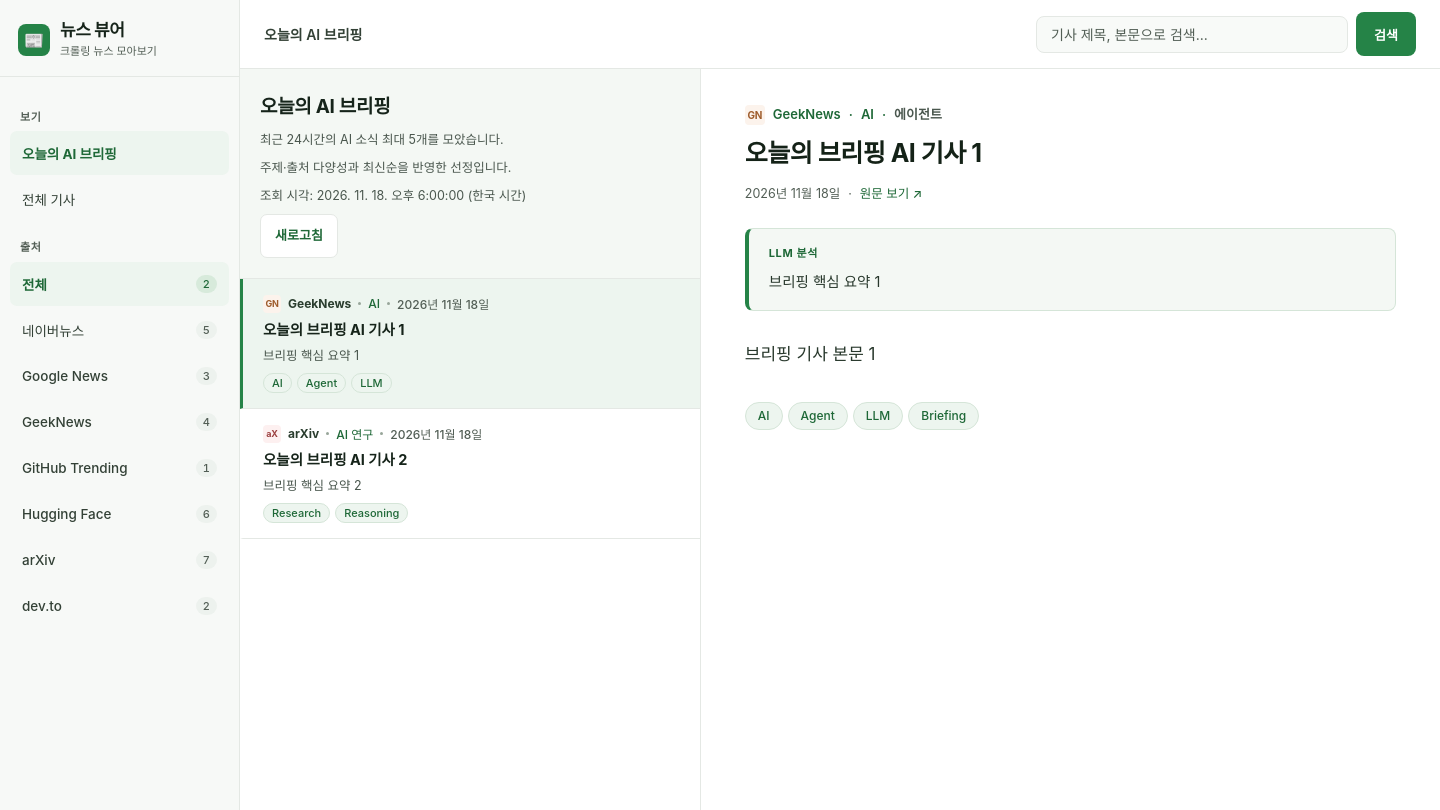
Test: 뉴스 뷰어 전체 화면 사용자 시나리오 › 사이드바에서 다른 보기로 전환하면 기존 선택을 해제해 새 보기 첫 기사를 표시하고 같은 보기를 다시 누르면 선택을 유지한다
Expected: the heading "오늘의 브리핑 AI 기사 1" is shown, [745,138,982,168]
Click the button "오늘의 브리핑 AI 기사 2".
click(304, 434)  # box [240,409,700,539]
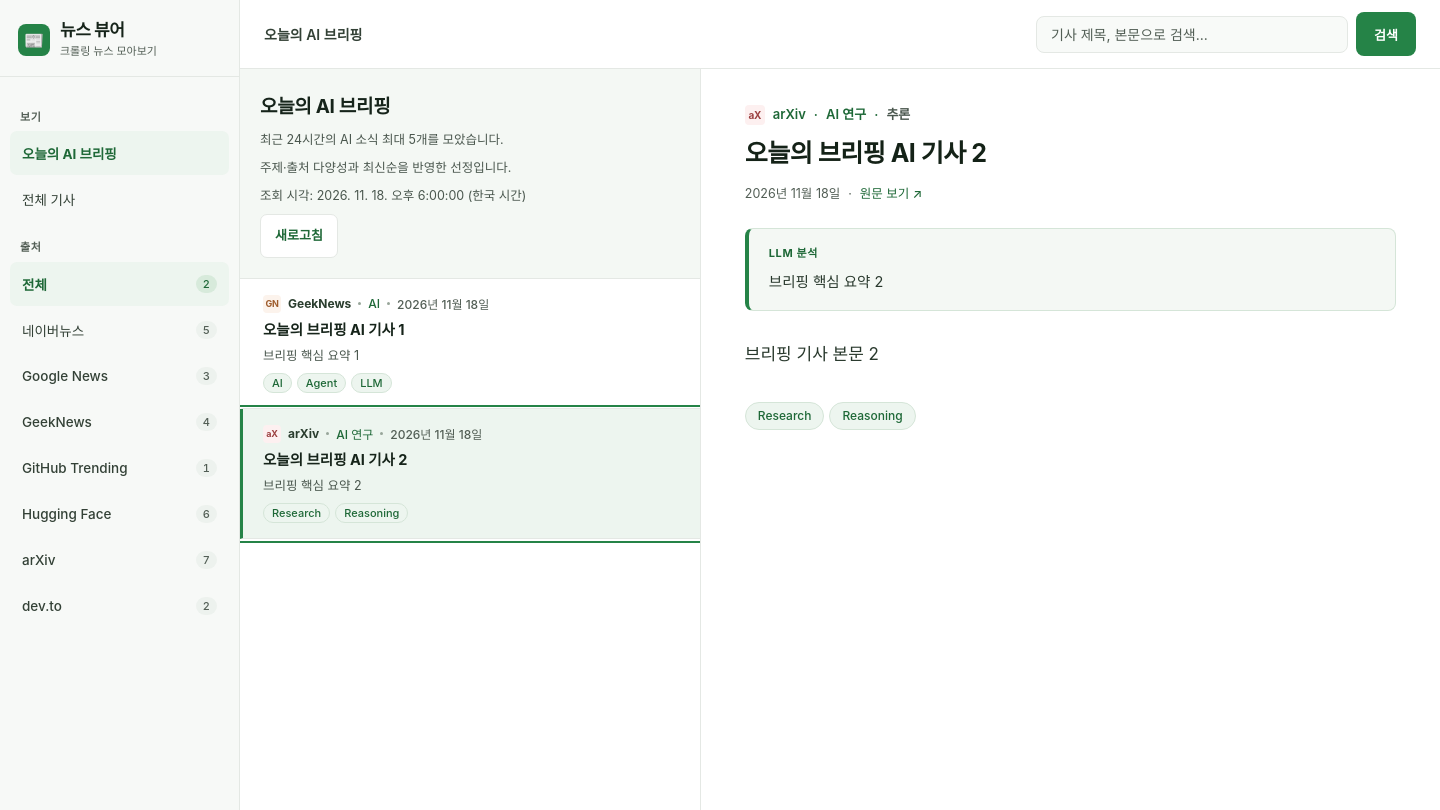
Expected: the heading "오늘의 브리핑 AI 기사 2" is shown, [745,138,986,168]
이미 선택된 보기를 다시 누르면 선택과 목록을 유지하고 재요청하지 않는다
Click the button "오늘의 AI 브리핑".
click(120, 153)  # box [10,131,229,175]
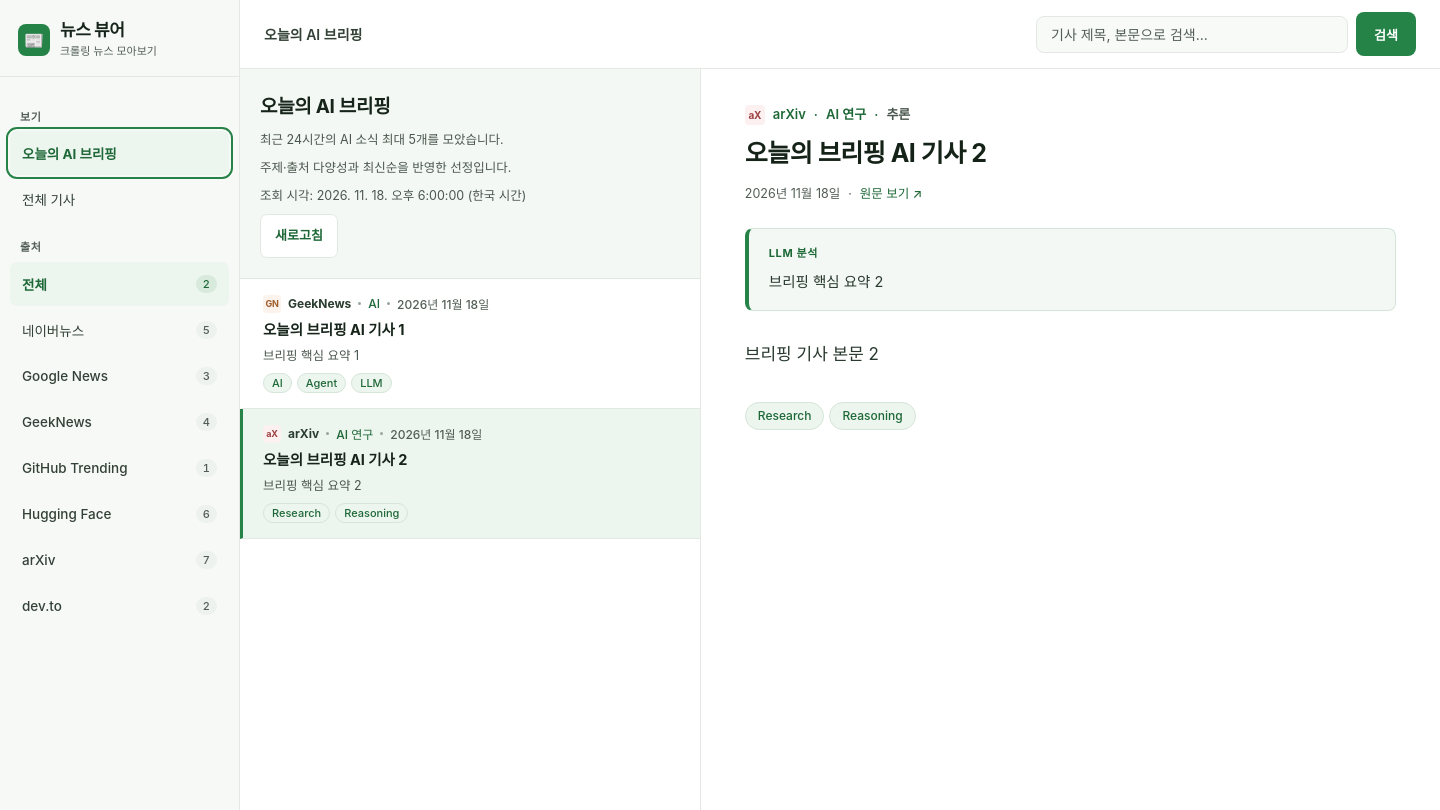
Expected: the heading "오늘의 브리핑 AI 기사 2" is shown, [745,138,986,168]
전체 기사 보기로 전환하면 상단바 제목이 바뀌고 첫 피드 기사를 자동 선택한다
Click the button "전체 기사".
click(120, 199)  # box [10,177,229,221]
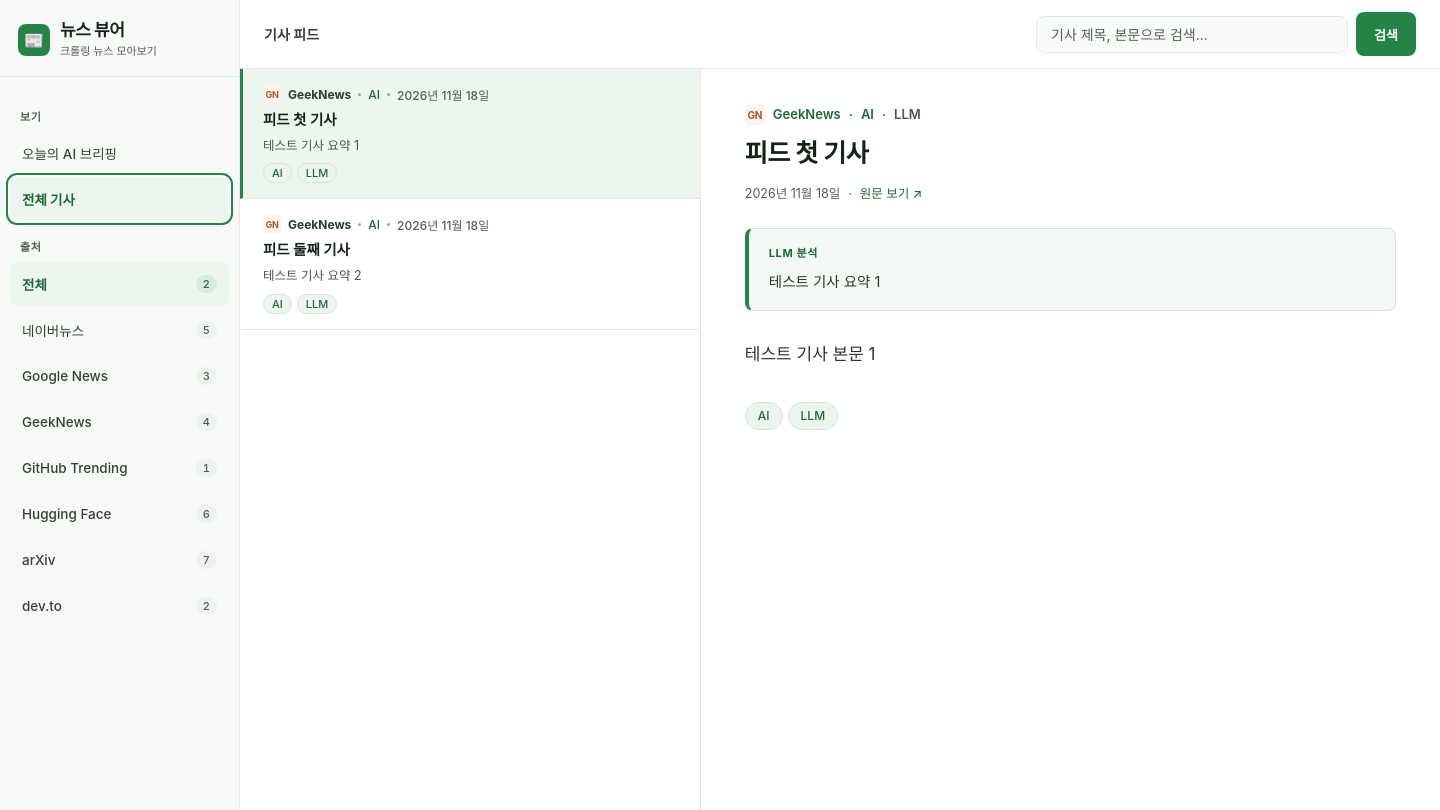
Expected: the text "기사 피드" is shown, [264,24,319,44]
Expected: the heading "피드 첫 기사" is shown, [745,138,868,168]
Click the button "피드 둘째 기사".
click(320, 224)  # box [240,199,700,330]
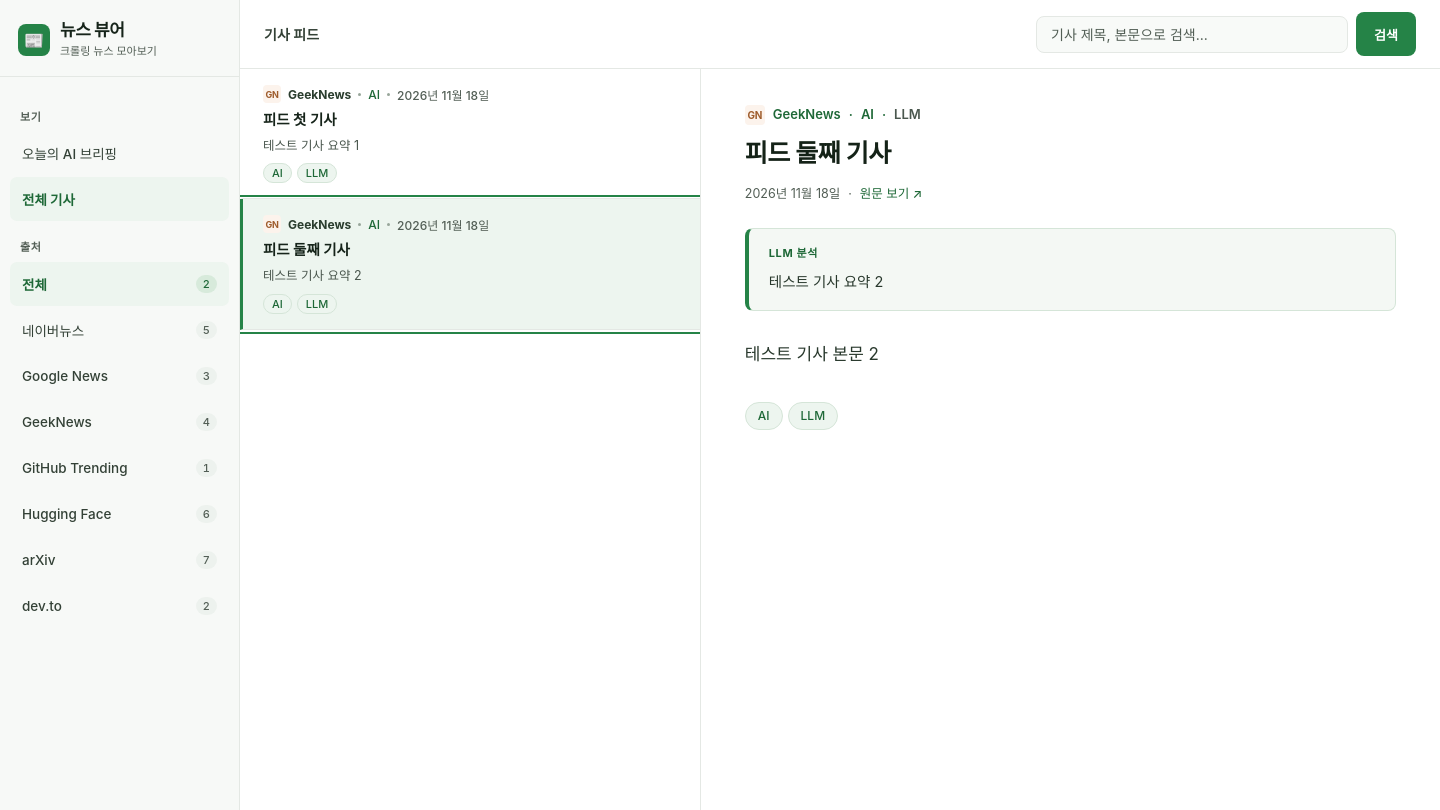
Expected: the heading "피드 둘째 기사" is shown, [745,138,891,168]
Click the button "전체 기사".
click(120, 199)  # box [10,177,229,221]
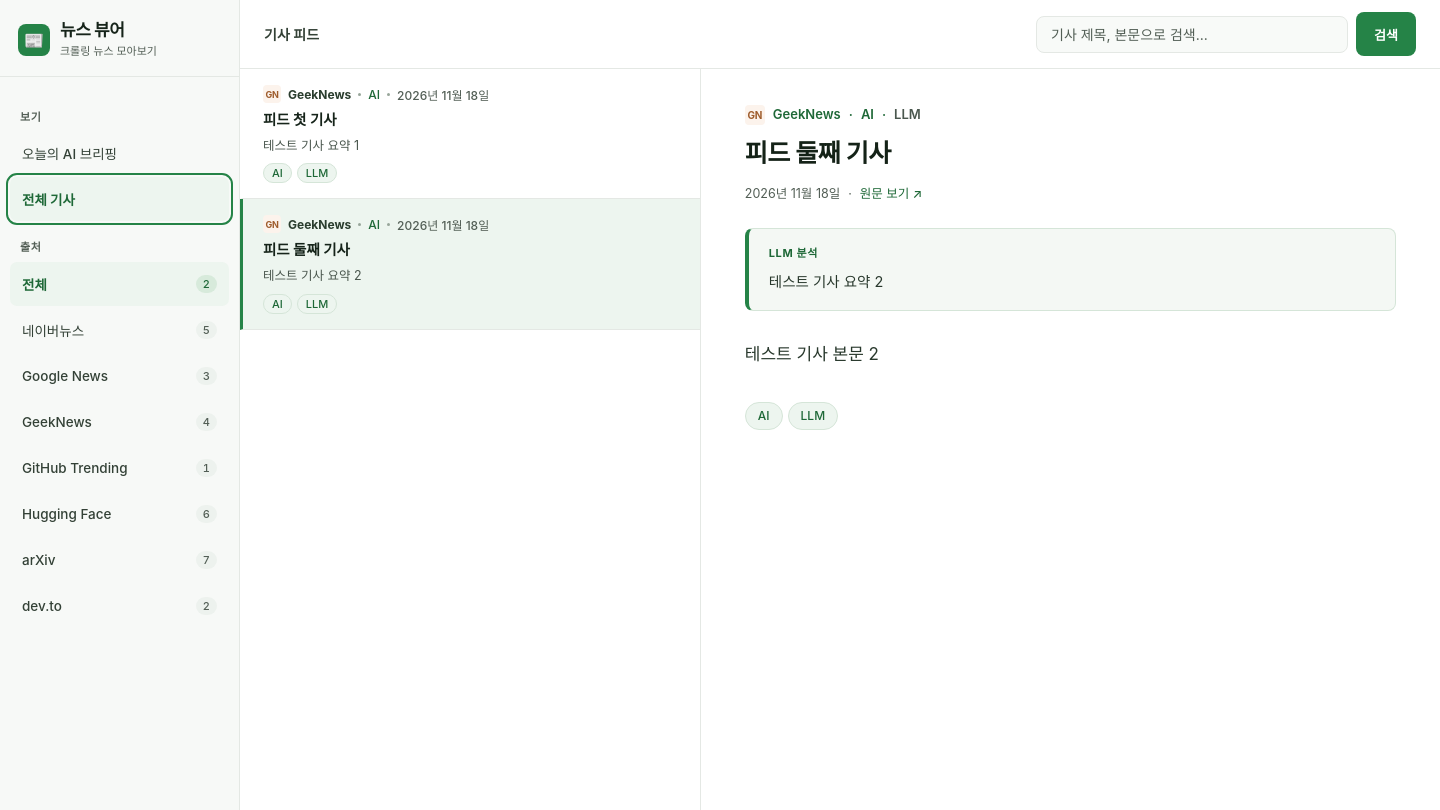
Expected: the heading "피드 둘째 기사" is shown, [745,138,891,168]
다시 브리핑 보기로 전환하면 브리핑을 새로 불러온다
Click the button "오늘의 AI 브리핑".
click(120, 153)  # box [10,131,229,175]
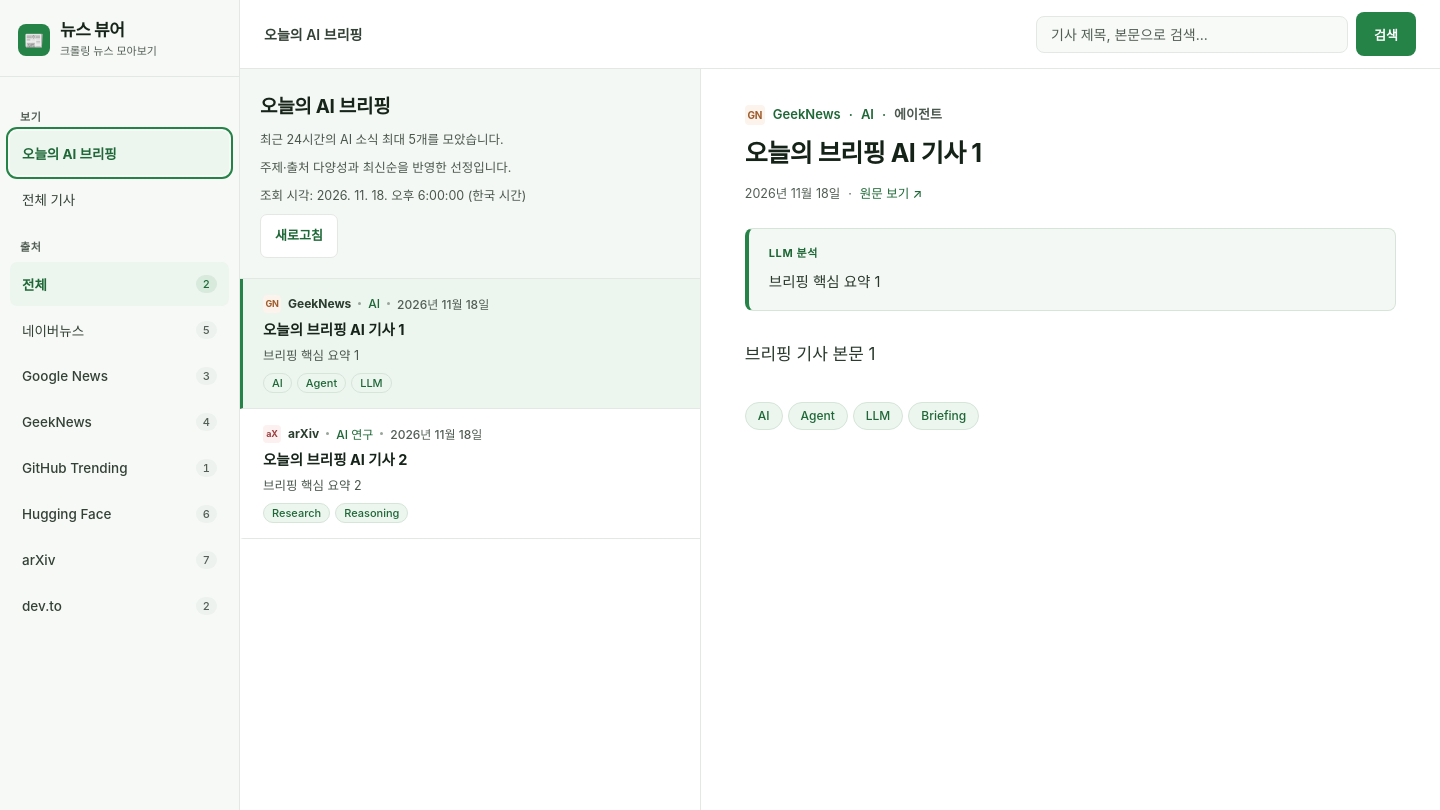
Expected: the heading "오늘의 브리핑 AI 기사 1" is shown, [745,138,982,168]
